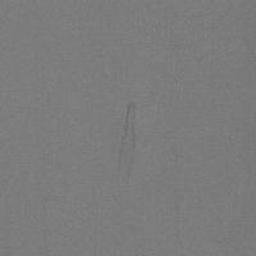Water spot: (115, 101, 136, 189)
